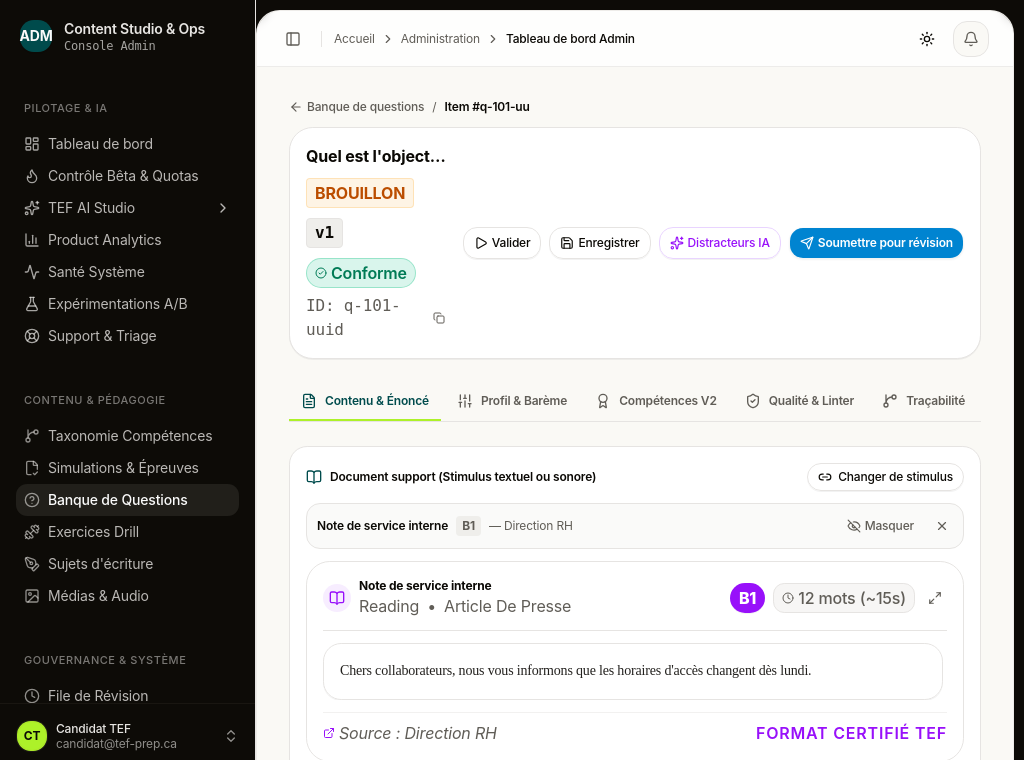
Test: Question System V2 - Phase 6 Workspace & Admin UI › executes lifecycle transitions (submit review, approve, publish, fork)
The width and height of the screenshot is (1024, 760).
Expected: the text "Brouillon" is shown, [306,178,414,208]
# Submit for review
Step 1. Click the button "Soumettre pour révision" → (876, 243), box [789,227,964,259]
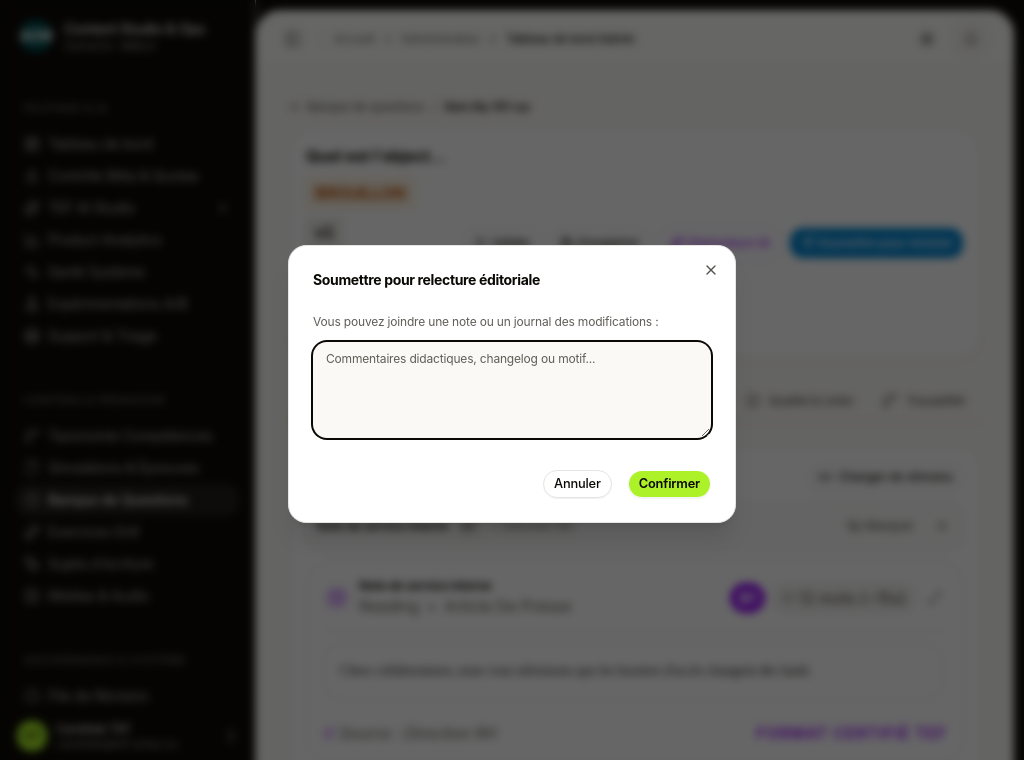
# Modal opens
Step 2. Click the button "Confirmer" → (669, 484), box [628,470,711,498]
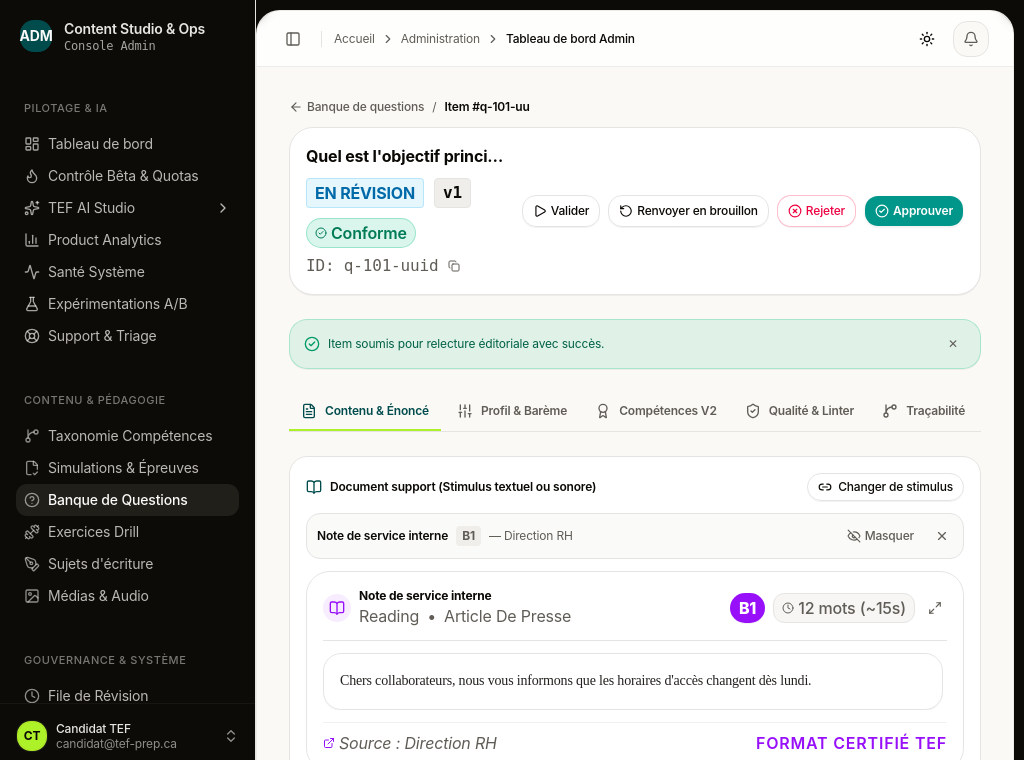
Result: the text "En révision" is shown at [306,178,424,208]
Step 3. Click the button "Approuver" → (914, 211), box [864,195,964,227]
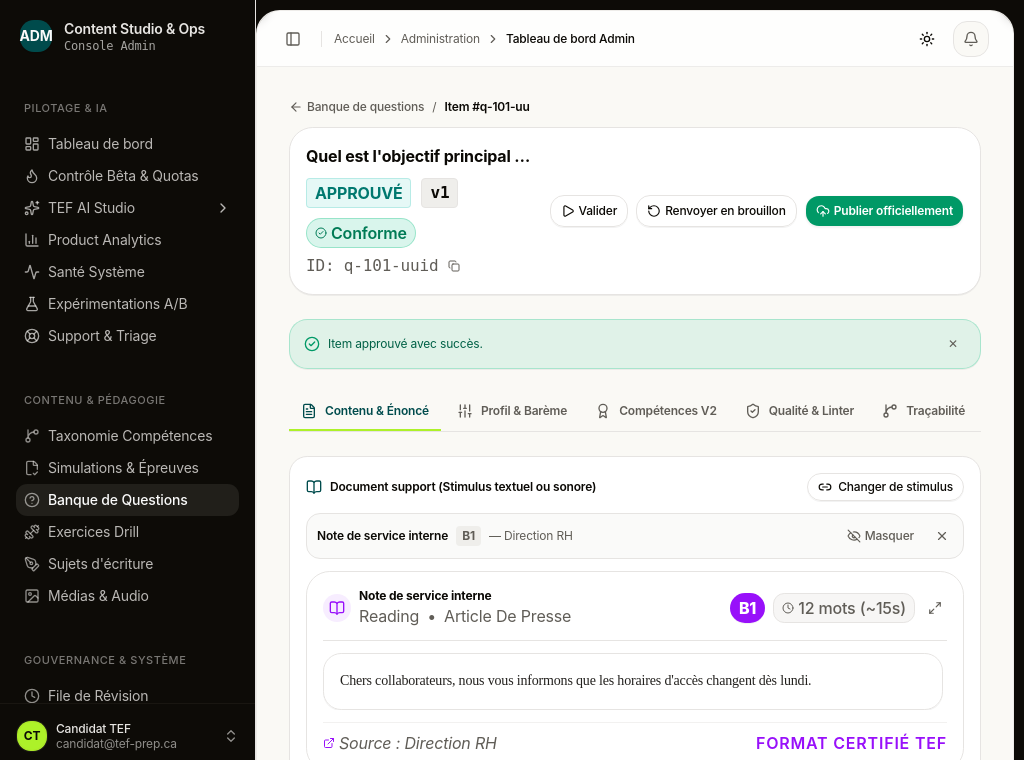
Result: the text "Approuvé" is shown at [306,178,412,208]
Step 4. Click the button "Publier officiellement" → (884, 211), box [805,195,964,227]
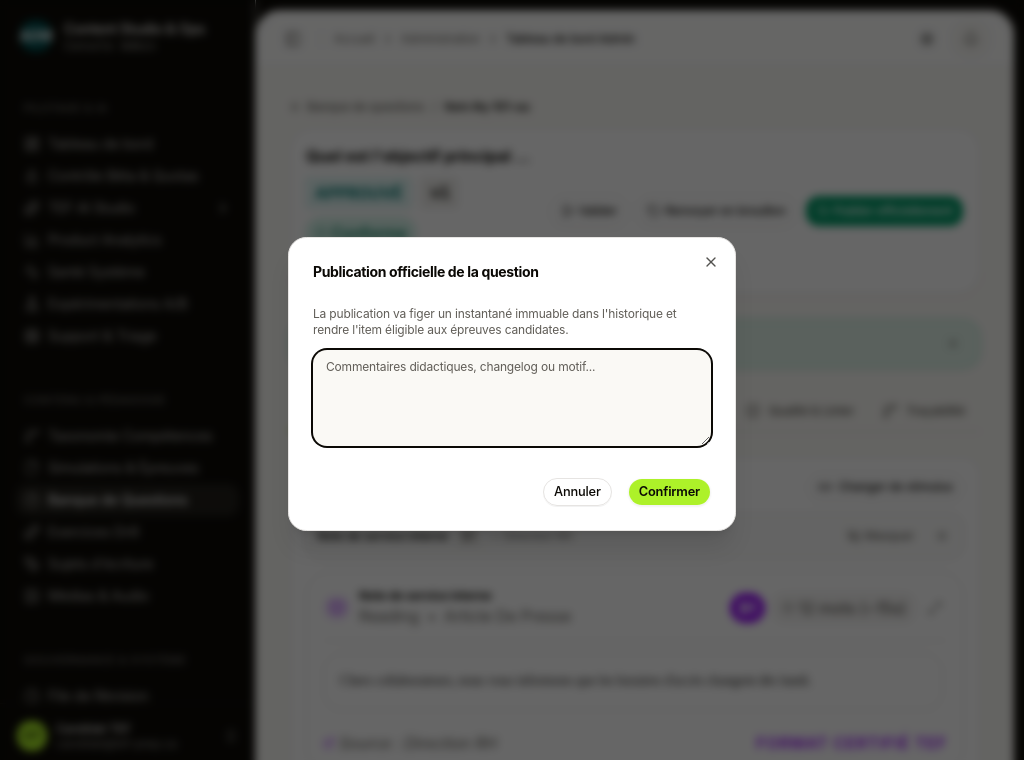
Step 5. Click the button "Confirmer" → (669, 492), box [628,478,711,506]
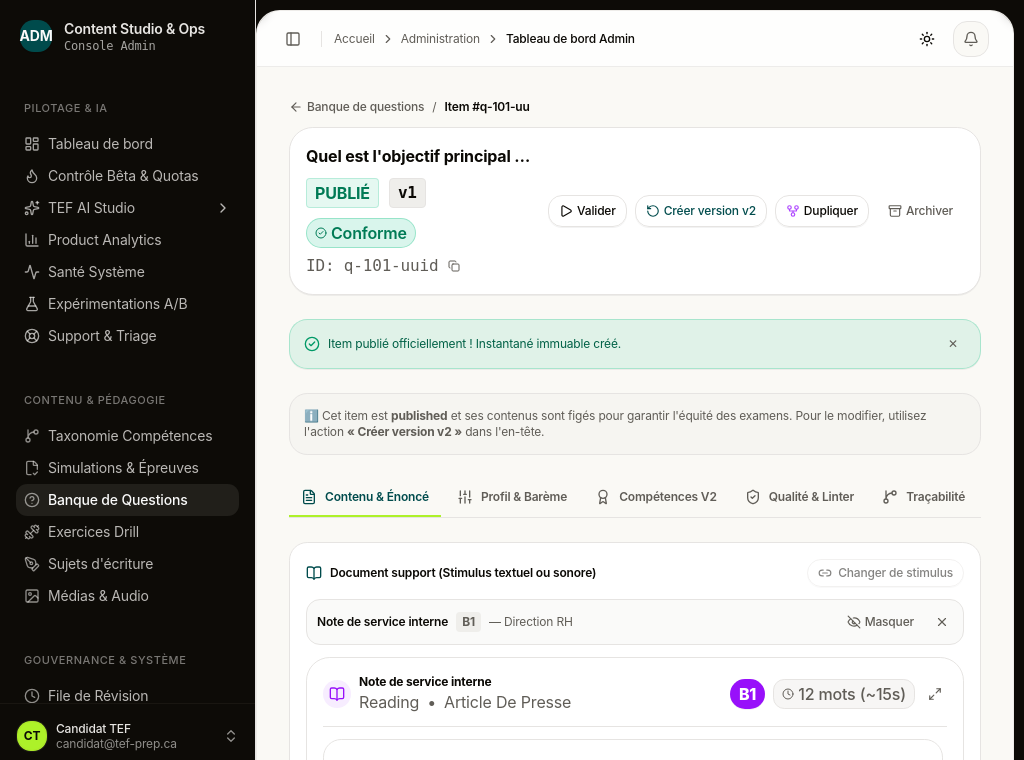
Result: the text "Publié" is shown at [306,178,379,208]
